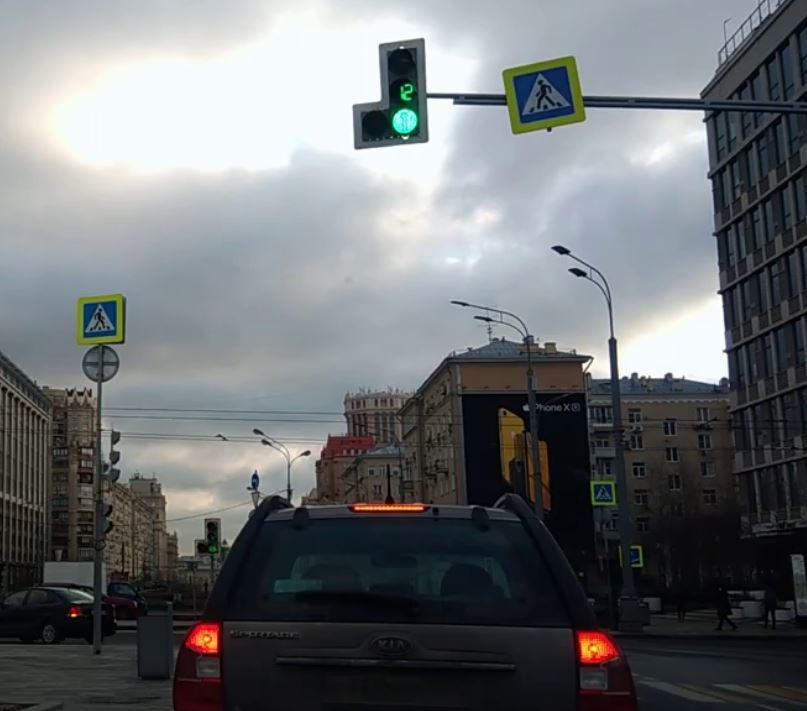Yaya Gecidi: (514, 70, 574, 116), (83, 302, 118, 337)
